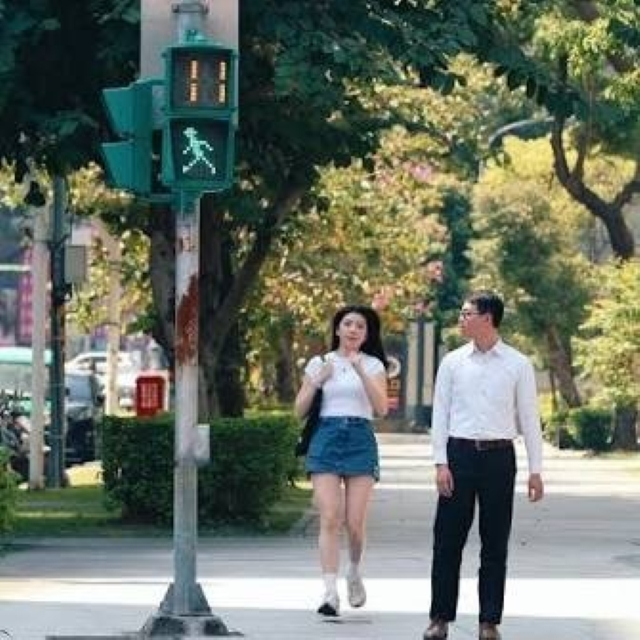green_light: (164, 43, 237, 188)
